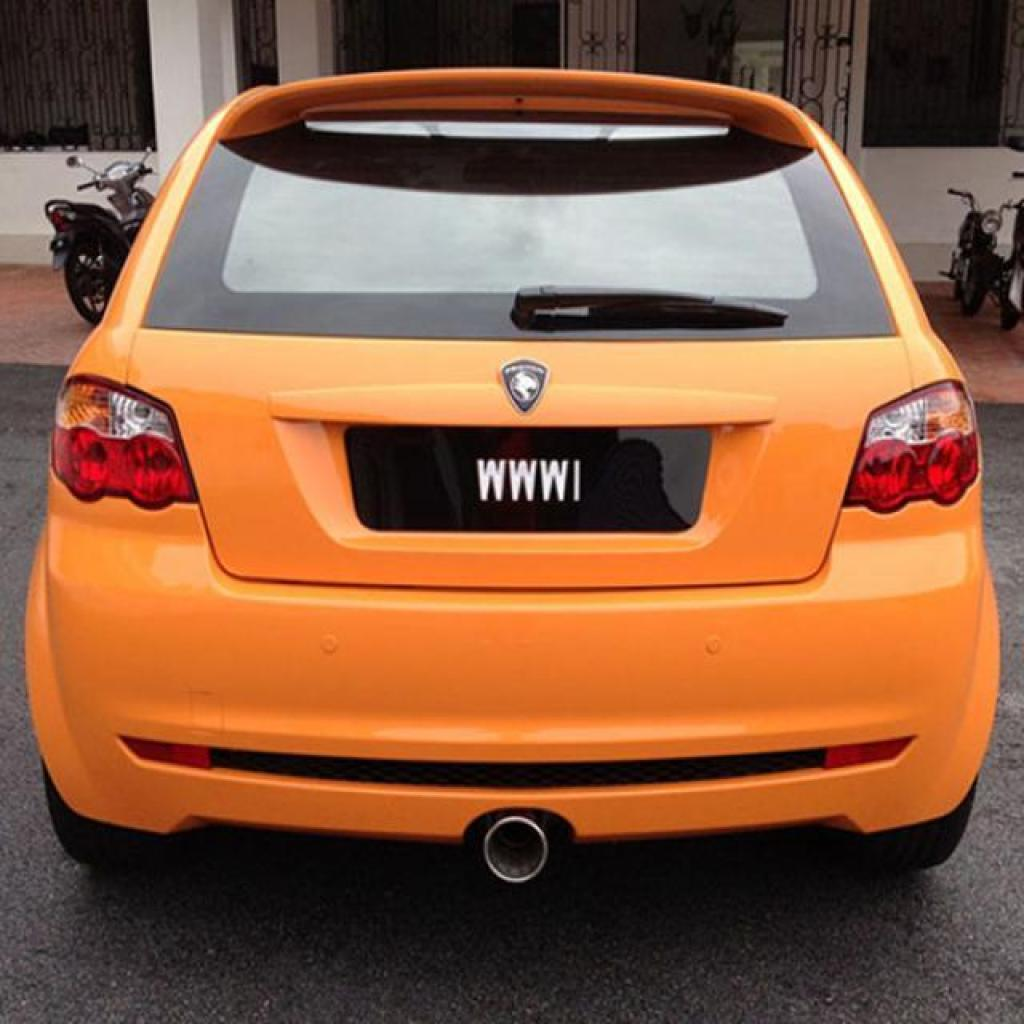car: (26, 70, 995, 880)
car plate: (349, 428, 713, 528)
